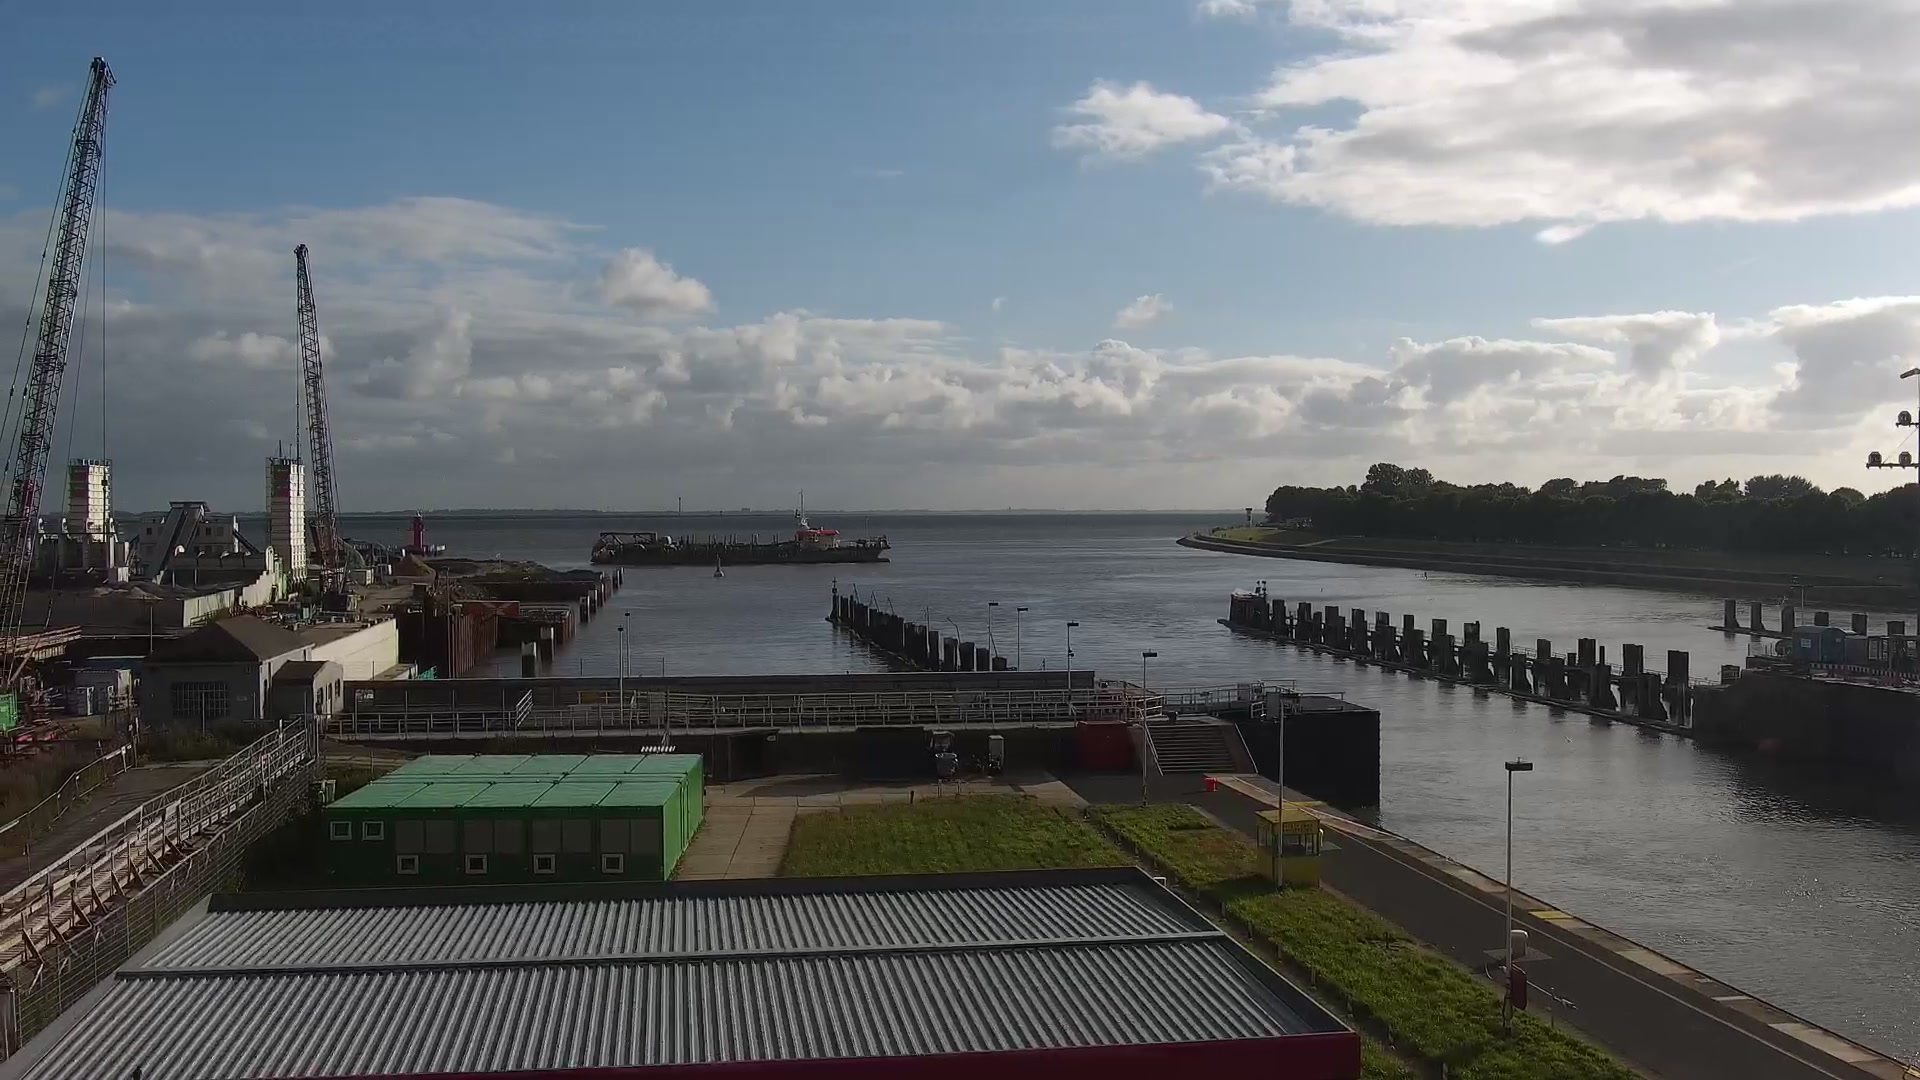sea: (589, 487, 891, 566)
